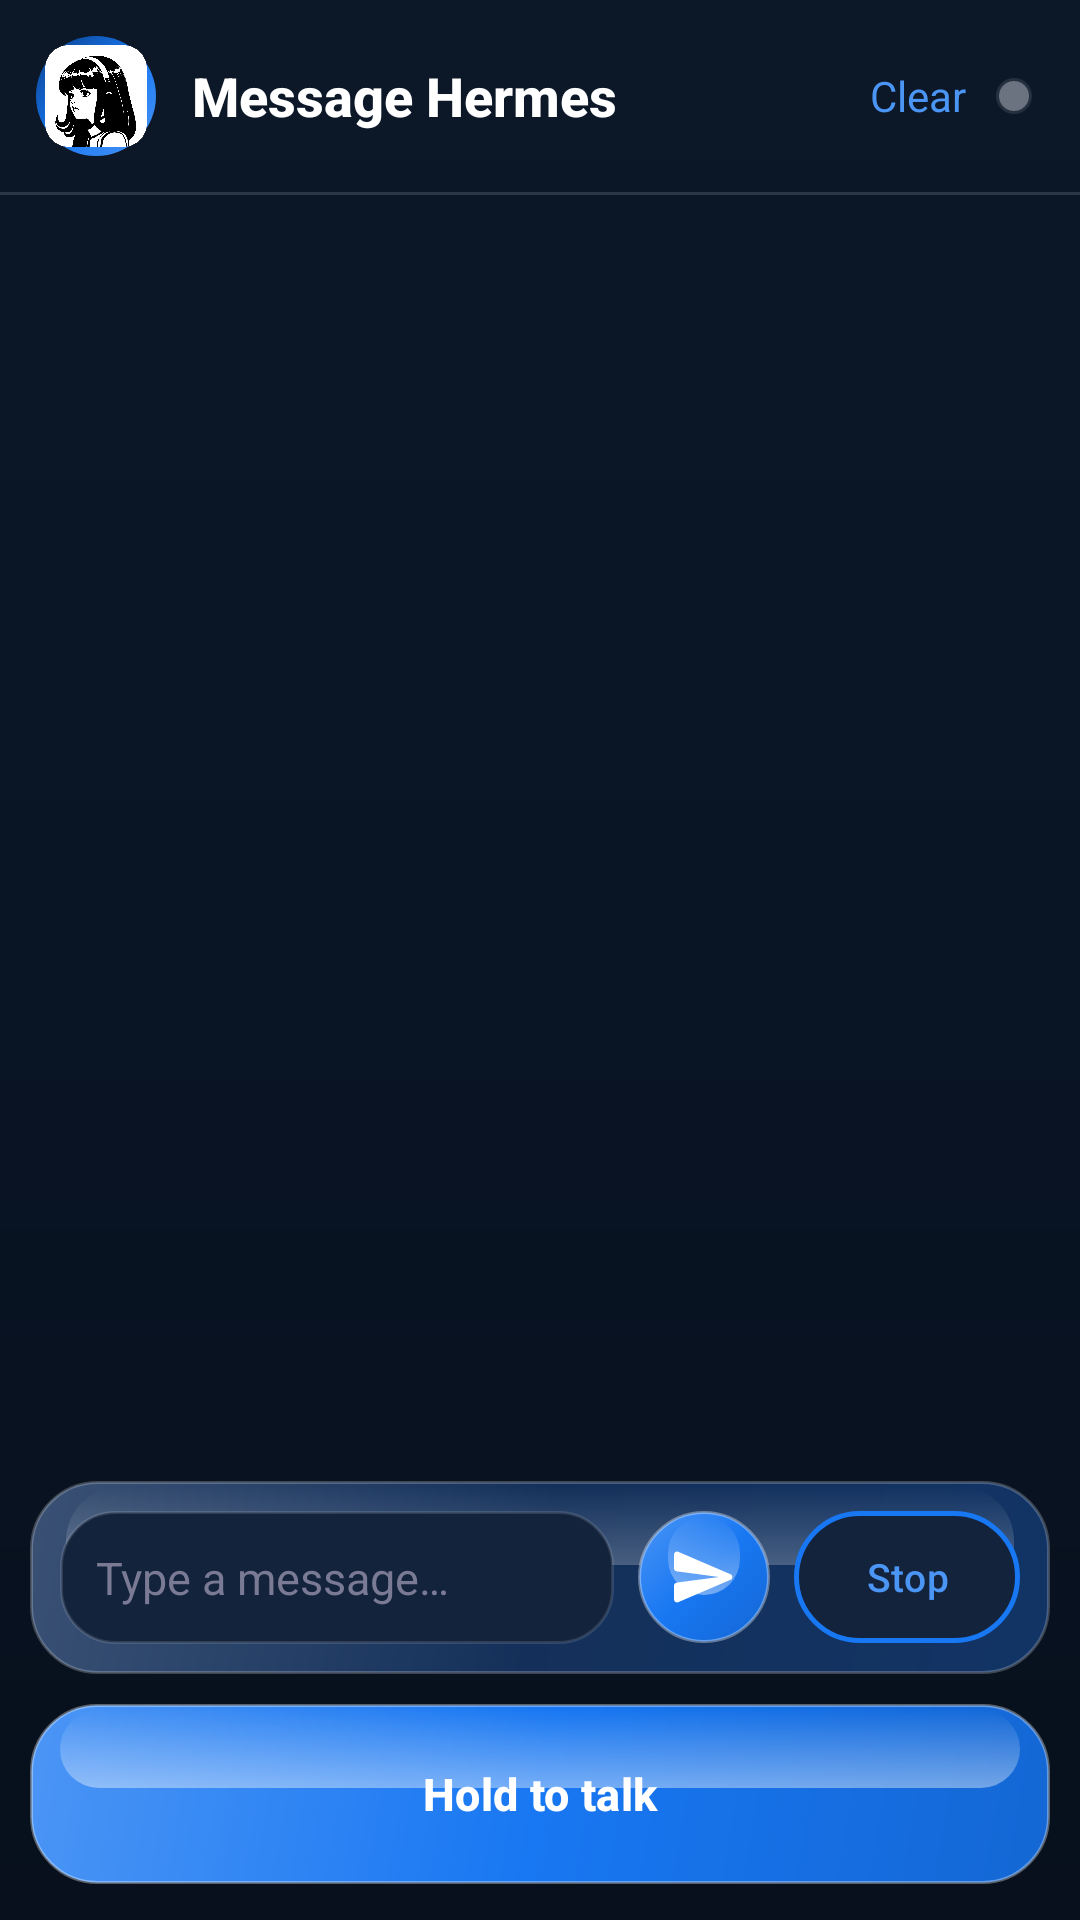

Where icons sit on this 1080px×1920px app screen, as (x1, y1, x2, y2):
Send: (638, 1511, 770, 1643)
status dot offline: (996, 78, 1032, 114)
